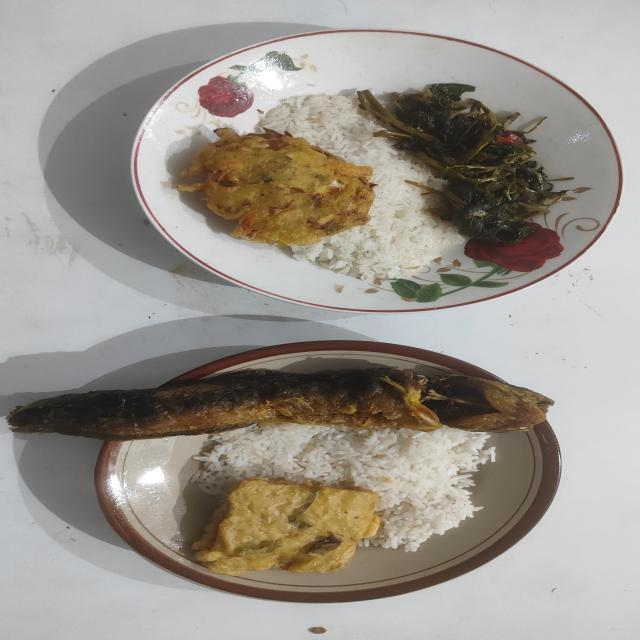nasi_putih: (193, 424, 495, 551), (261, 94, 462, 280)
tumis_kangkung: (358, 84, 566, 242)
